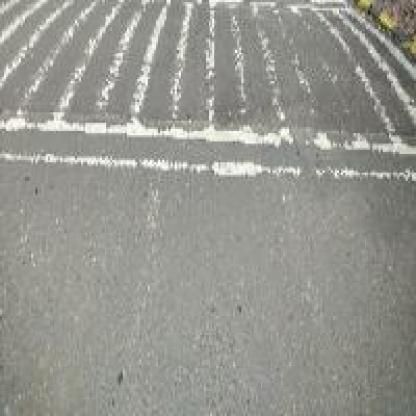Speed Bump: (0, 0, 414, 183)
